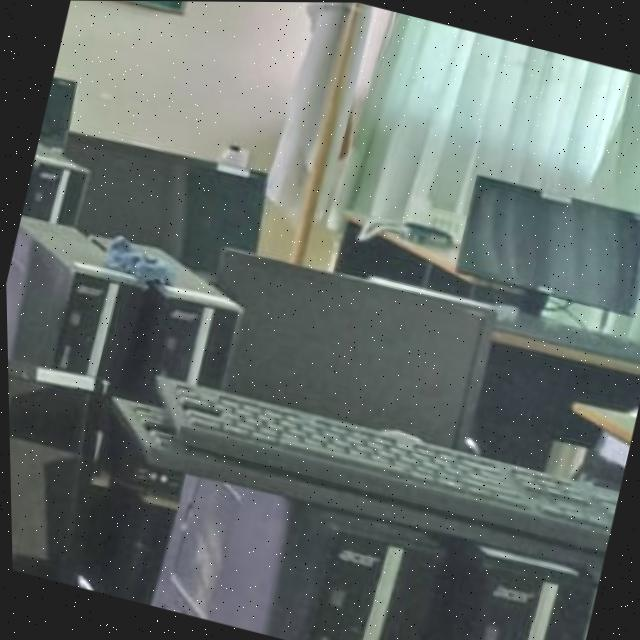offscreen: (215, 250, 491, 446), (457, 176, 640, 313)
